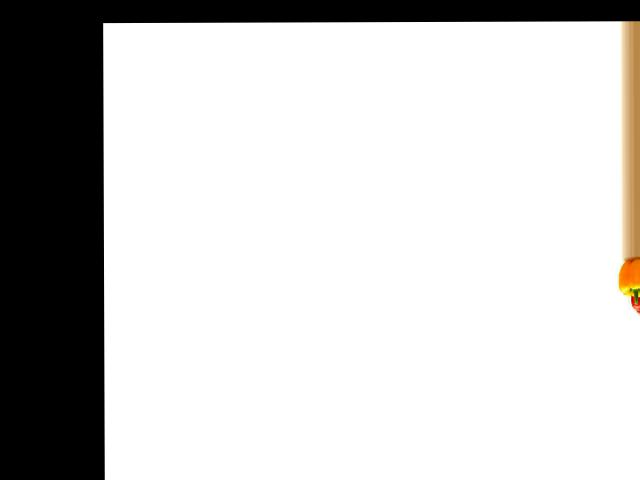bell_pepper: (617, 257, 640, 303)
